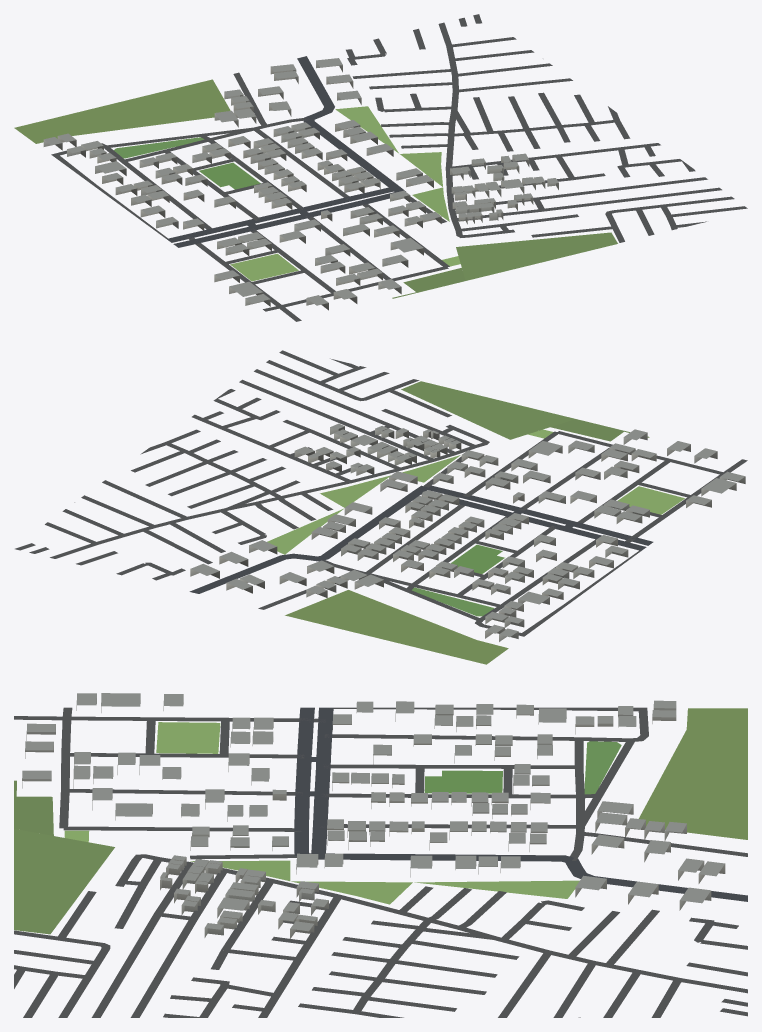
The picture shows the model from 3 angles, top to bottom: view 1: azimuth 30°, elevation 25°; view 2: azimuth 150°, elevation 25°; view 3: azimuth 270°, elevation 25°; orthographic projection. The views are drawn at different scales.
Parts seen in each view (by area): view 1: ground, building; view 2: ground, building; view 3: ground, building.
Part boxes in pixels (x1,y1,x2,y2): ground: [14, 14, 747, 321]; building: [43, 58, 558, 310]; ground: [15, 350, 747, 664]; building: [190, 423, 745, 641]; ground: [14, 707, 747, 1017]; building: [22, 693, 725, 938].
Size of the model in its own units: 509 by 8 by 500.
